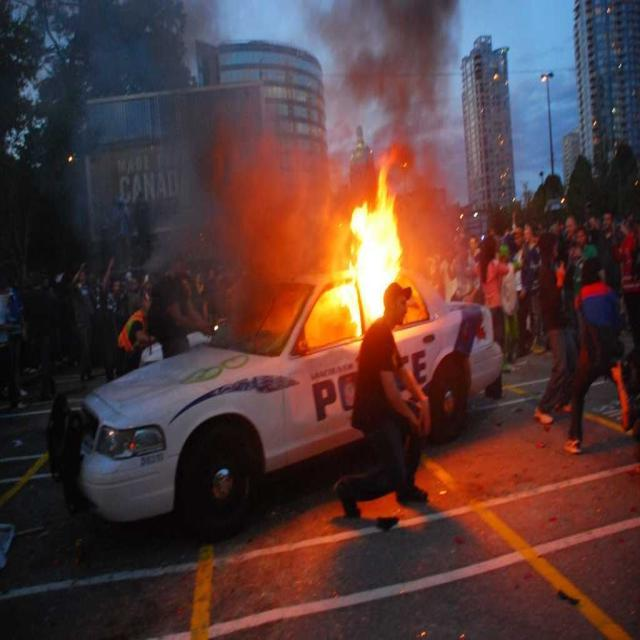Fire: (347, 194, 407, 314)
Smoke: (214, 148, 330, 280), (370, 0, 456, 134)
